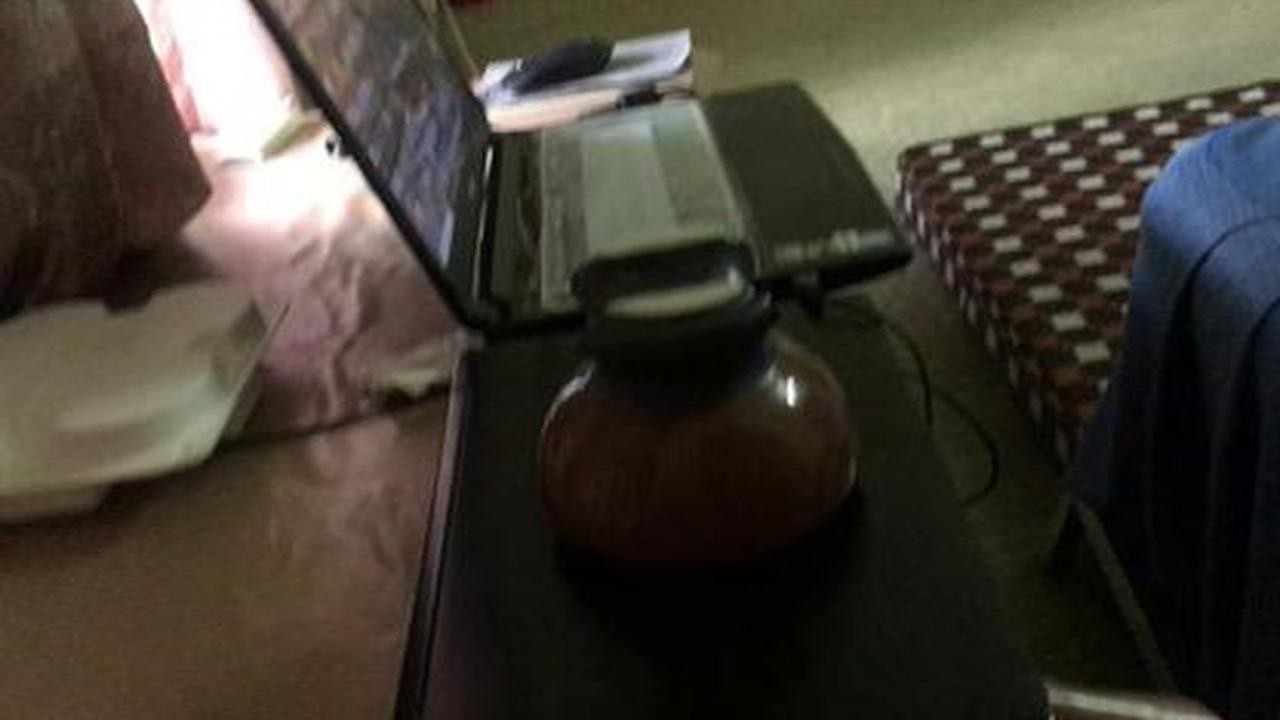insulator_pin: (508, 224, 893, 625)
